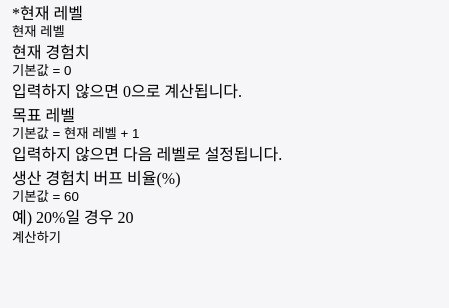
WalnutForm › 첫 제출 전에는 어긋난 값을 넣어도 오류를 보이지 않는다
The image size is (449, 308).
Type "120" into the number field labelled "생산 경험치 버프 비율(%)". click: (222, 196)
box: [12, 189, 432, 204]
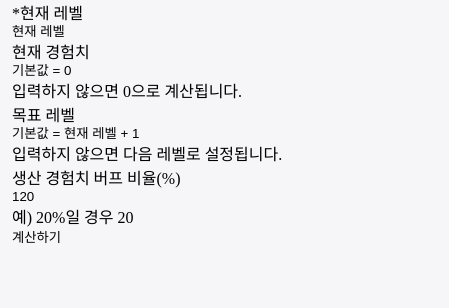
Click the button "계산하기". click: (37, 238)
box: [12, 231, 61, 244]
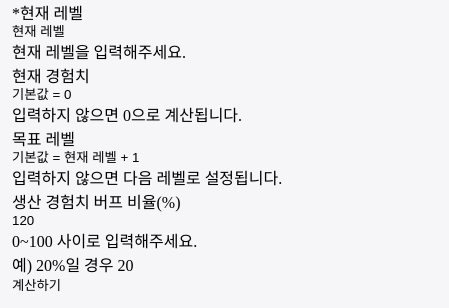
expect the text "현재 레벨을 입력해주세요." is shown: met, box [12, 44, 186, 61]
expect the text "0~100 사이로 입력해주세요." is shown: met, box [12, 233, 197, 250]
